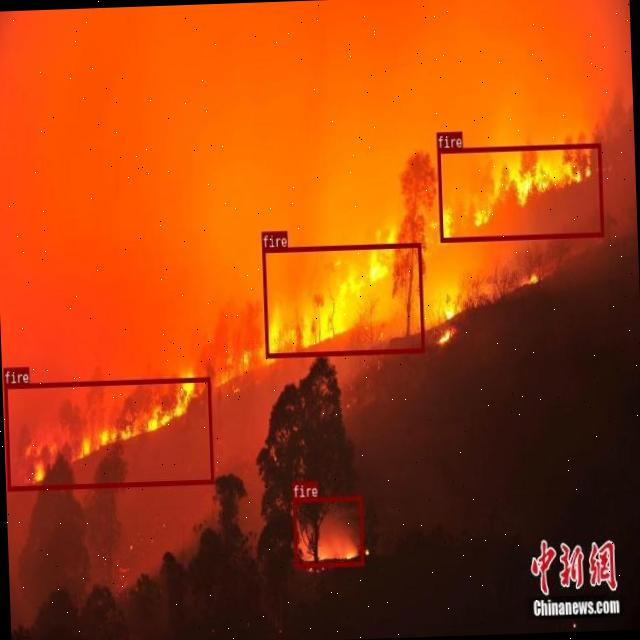fire: (3, 376, 213, 490), (262, 242, 424, 356), (436, 142, 603, 242), (292, 496, 362, 567)
